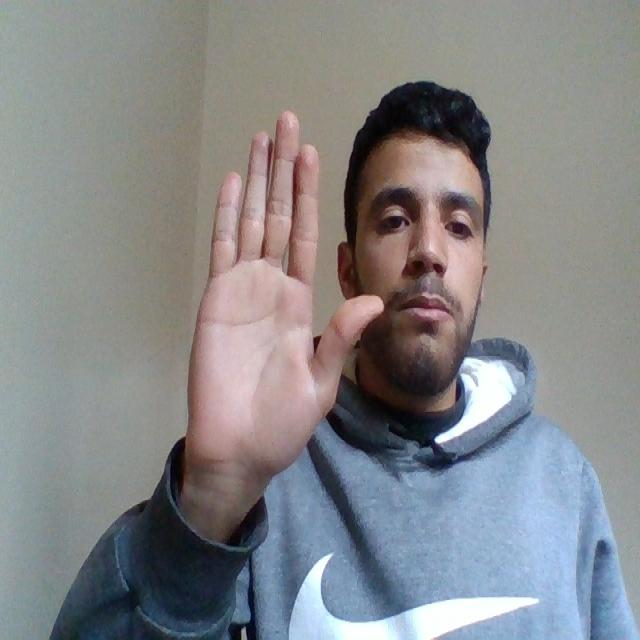Hello: (176, 109, 386, 491)
